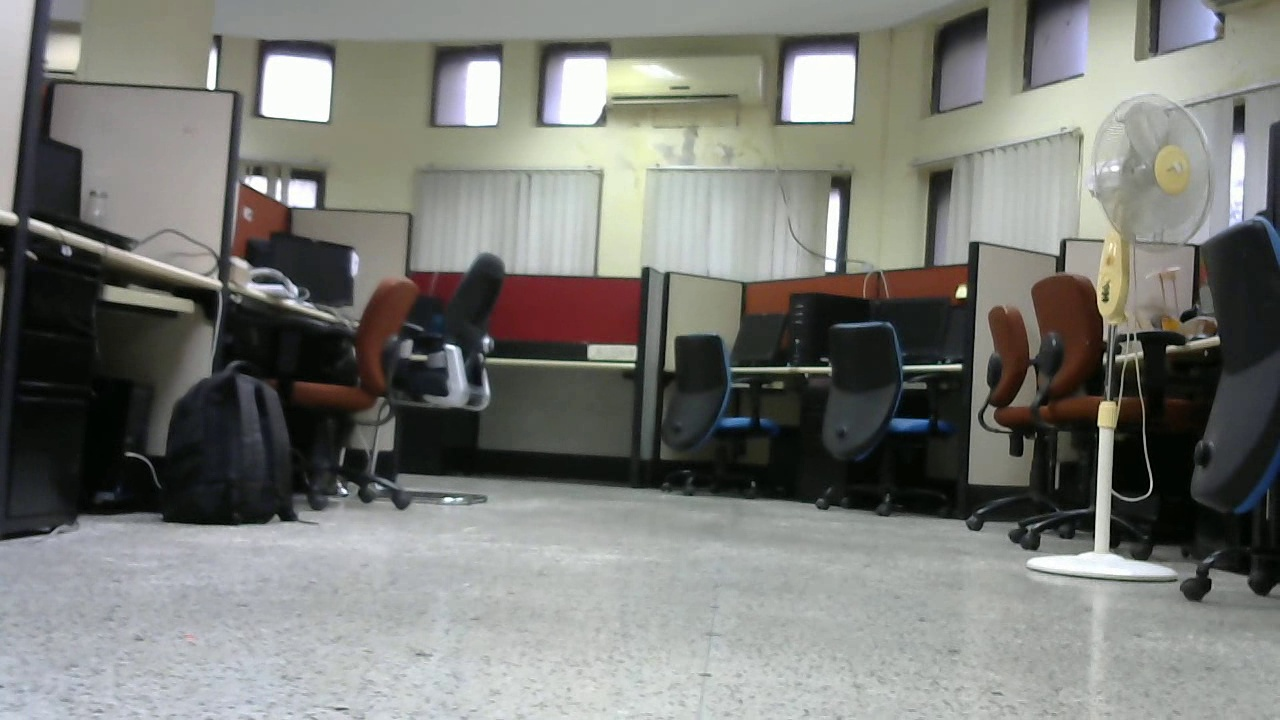chair: (1031, 288, 1175, 555), (293, 263, 419, 507), (405, 243, 507, 508), (821, 324, 961, 516), (972, 305, 1078, 536), (650, 335, 781, 492)
